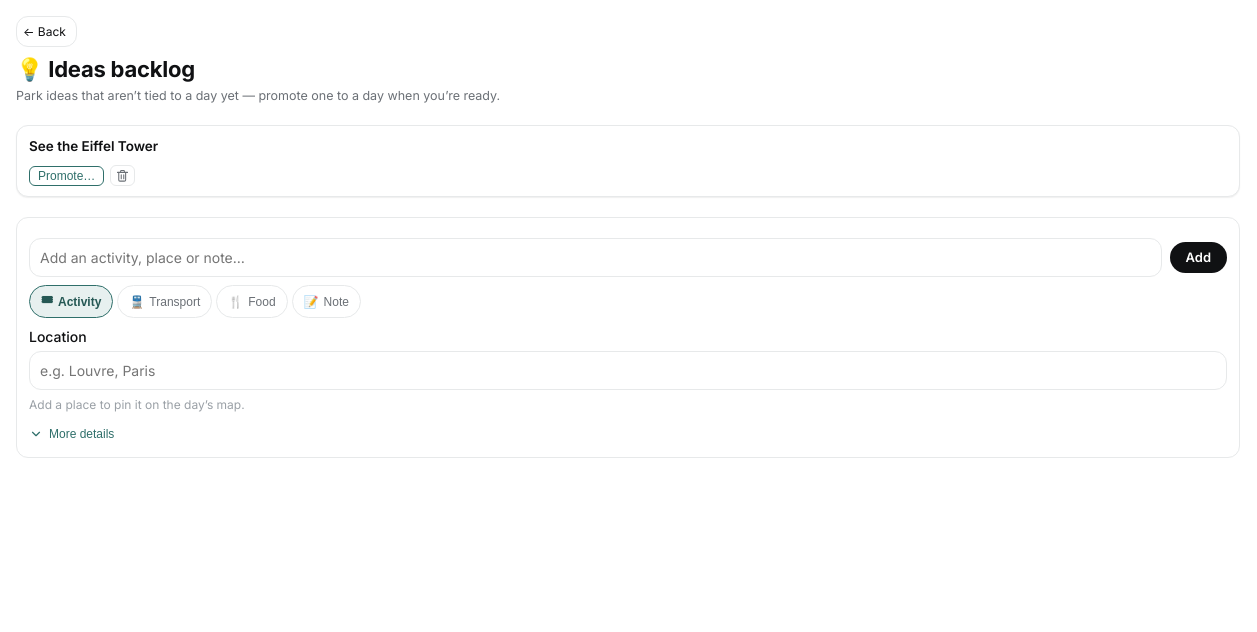
Test: BacklogPage › edit › opens the shared edit form on click and saves changes with day_id null
Expected: the text "See the Eiffel Tower" is shown, [29,136,158,157]
Click the button with aria-label "Edit See the Eiffel Tower" at (94, 146), box [29,136,1227,157]
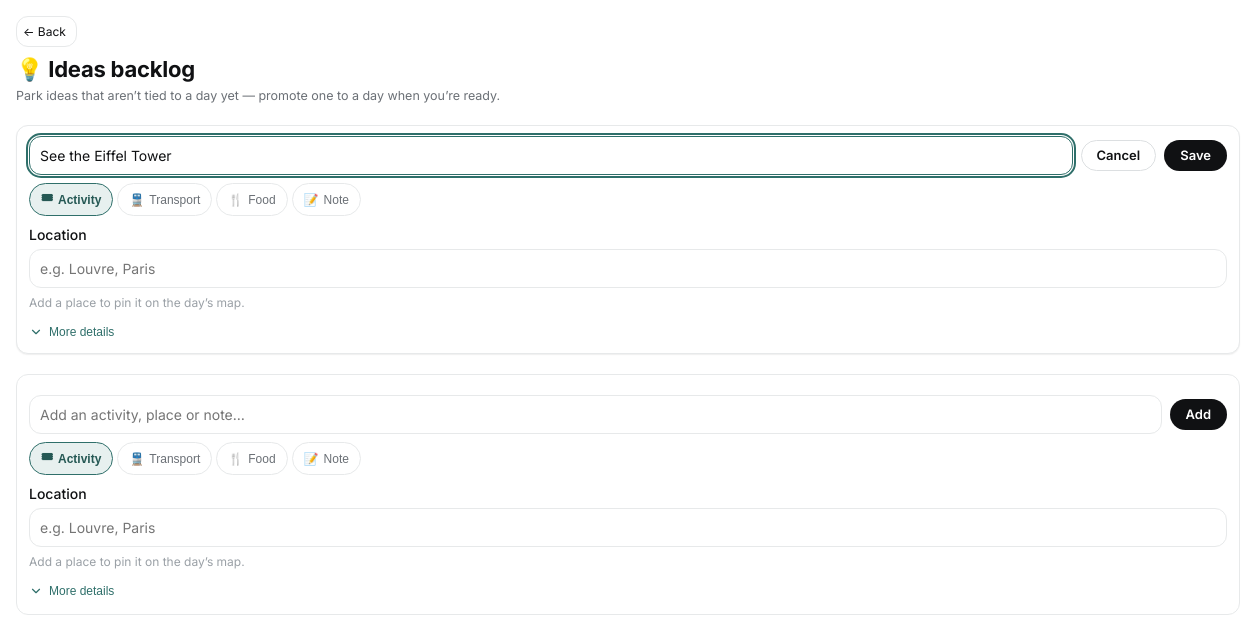
Replace the text in the field showing "See the Eiffel Tower" with "Climb the Eiffel Tower" at (551, 156), box [29,136,1072,175]
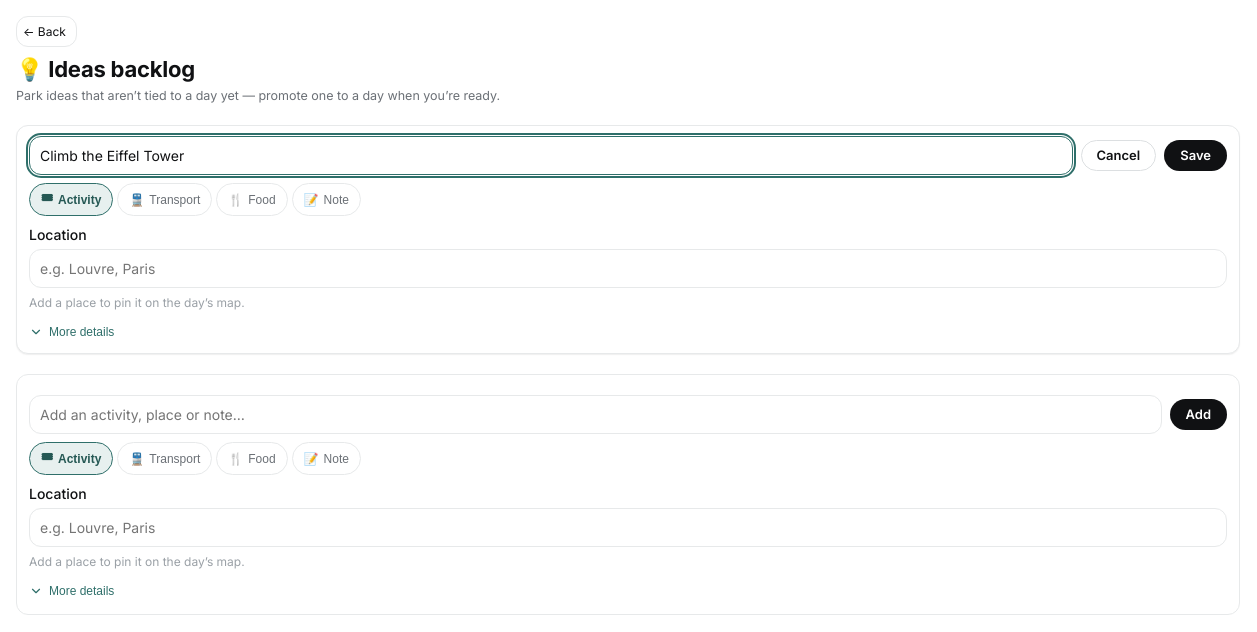
Click the button "Save" at (1196, 156), box [1164,140,1227,171]
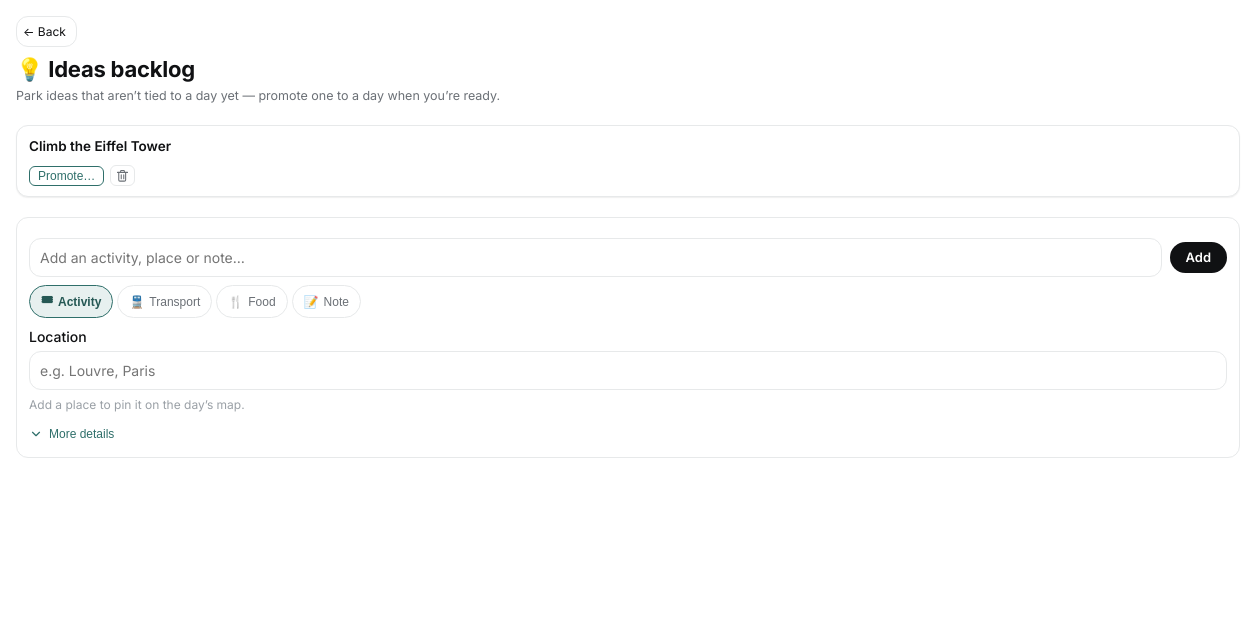
Result: the text "Climb the Eiffel Tower" is shown at [29,136,171,157]
